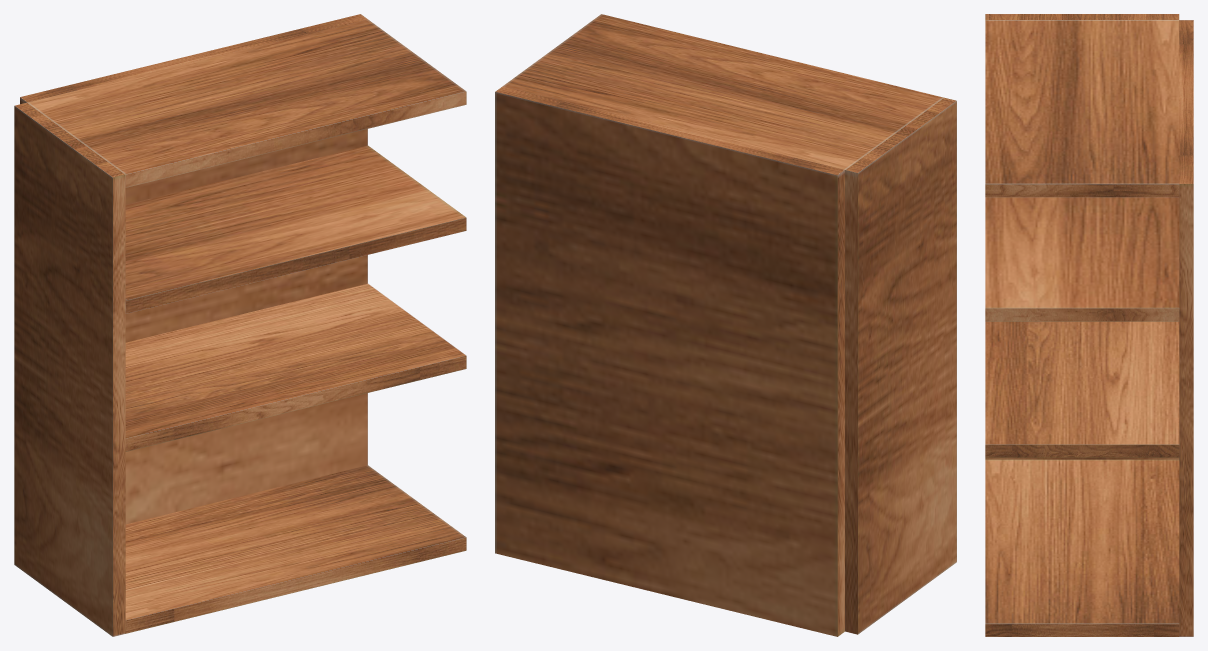
Rendered from SM_Boardcast.fbx.
3 views of the same model, side by side, from view 1: azimuth 30°, elevation 25°; view 2: azimuth 150°, elevation 25°; view 3: azimuth 270°, elevation 25° (orthographic).
Parts seen in each view (by area): view 1: SM_BoardCast; view 2: SM_BoardCast; view 3: SM_BoardCast.
Boxes of the visible parts, bbox=[...] form: SM_BoardCast: bbox=[14, 14, 466, 636]; SM_BoardCast: bbox=[495, 14, 956, 636]; SM_BoardCast: bbox=[985, 14, 1193, 636].
Bounding box in the file's own units: 8.3 × 10.3 × 4.3.
